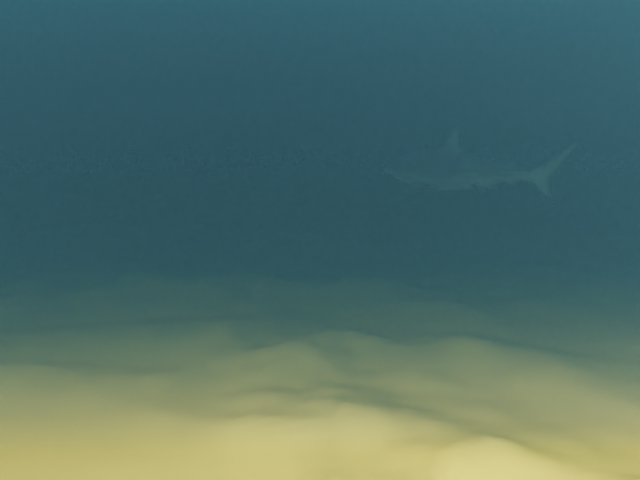Carribean Shark.001: (382, 124, 584, 204)
